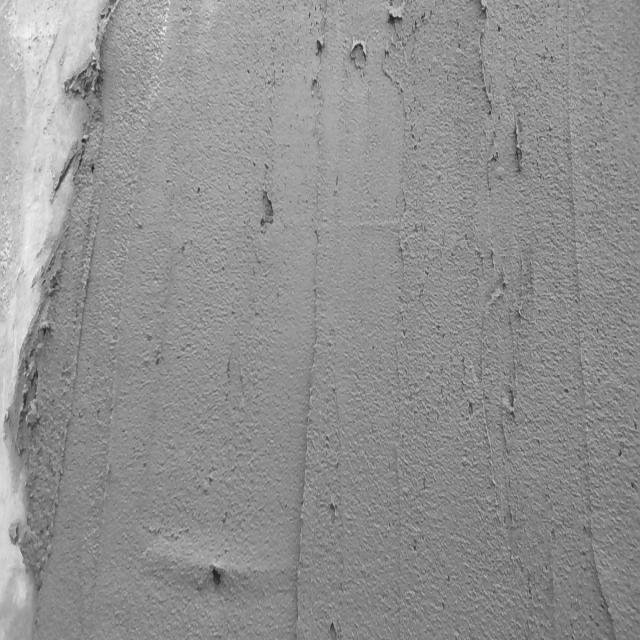trowels marks: (562, 82, 593, 533), (289, 279, 317, 640), (482, 5, 494, 274)
